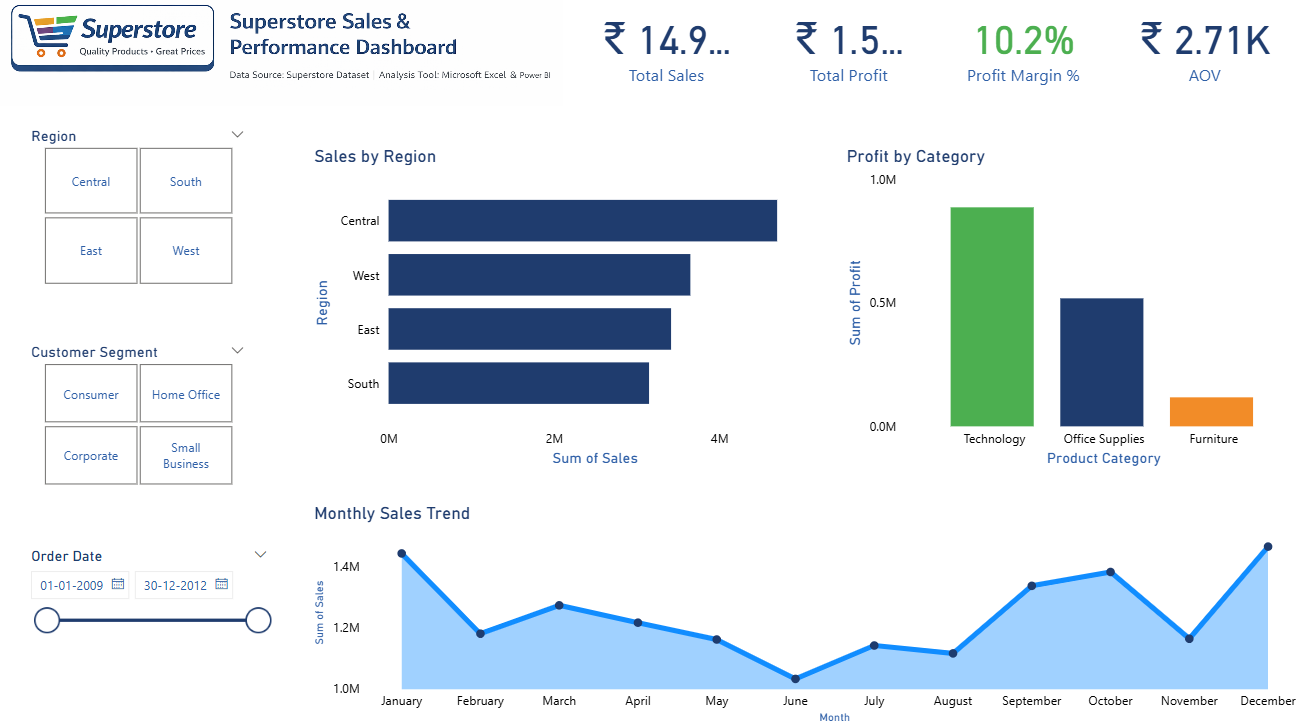

What the dashboard file says about the page in this screenshot:
{"tool":"powerbi","page":{"name":"Executive Overview","canvas":[1280,720],"ordinal":0},"visuals":[{"type":"image","box":[0,0,552.9,110],"z":0},{"type":"PBI_CV_7B952816_A48F_49B4_9E13_15E3BB2C0337","fields":{"Values":["Orders.Total Sales"]},"box":[568.8,0,171.2,110],"z":1000},{"type":"PBI_CV_7B952816_A48F_49B4_9E13_15E3BB2C0337","fields":{"Values":["Orders.Total Profit"]},"box":[757.5,0,151.2,110],"z":2000},{"type":"PBI_CV_7B952816_A48F_49B4_9E13_15E3BB2C0337","fields":{"Values":["Orders.Profit Margin %"]},"box":[928.8,0,148.8,110],"z":3000},{"type":"PBI_CV_7B952816_A48F_49B4_9E13_15E3BB2C0337","fields":{"Values":["Orders.AOV"]},"box":[1098.8,0,163.8,110],"z":4000},{"type":"barChart","title":"Sales by Region","fields":{"Category":["Orders.Region"],"Y":["Sum(Orders.Sales)"]},"box":[305,148.8,496.2,318.8],"z":5000},{"type":"clusteredColumnChart","title":"Profit by Category","fields":{"Category":["Orders.Product Category"],"Y":["Sum(Orders.Profit)"]},"box":[825,148.8,455,318.8],"z":6000},{"type":"slicer","fields":{"Values":["Orders.Region"]},"box":[20,126.2,233.8,165],"z":7000},{"type":"slicer","fields":{"Values":["Orders.Customer Segment"]},"box":[20,337.5,233.8,150],"z":8000},{"type":"lineChart","title":"Monthly Sales Trend","fields":{"Category":["Orders.Order Date.Variation.Date Hierarchy.Month"],"Y":["Sum(Orders.Sales)"]},"box":[305,498.8,975,221.2],"z":9000},{"type":"slicer","fields":{"Values":["Orders.Order Date"]},"box":[20,536.2,256.2,171.2],"z":10000}]}

Visuals, with their boxes in screenshot pixels (x1, y1, x2, y2), scaled from the page's 1280x720 canvas onto the 1305x727 screenshot:
image: <region>0, 0, 564, 111</region>
PBI_CV_7B952816_A48F_49B4_9E13_15E3BB2C0337 - Orders.Total Sales: <region>580, 0, 754, 111</region>
PBI_CV_7B952816_A48F_49B4_9E13_15E3BB2C0337 - Orders.Total Profit: <region>772, 0, 926, 111</region>
PBI_CV_7B952816_A48F_49B4_9E13_15E3BB2C0337 - Orders.Profit Margin %: <region>947, 0, 1099, 111</region>
PBI_CV_7B952816_A48F_49B4_9E13_15E3BB2C0337 - Orders.AOV: <region>1120, 0, 1287, 111</region>
"Sales by Region" barChart: <region>311, 150, 817, 472</region>
"Profit by Category" clusteredColumnChart: <region>841, 150, 1304, 472</region>
slicer - Orders.Region: <region>20, 127, 259, 294</region>
slicer - Orders.Customer Segment: <region>20, 341, 259, 492</region>
"Monthly Sales Trend" lineChart: <region>311, 504, 1304, 726</region>
slicer - Orders.Order Date: <region>20, 541, 282, 714</region>
